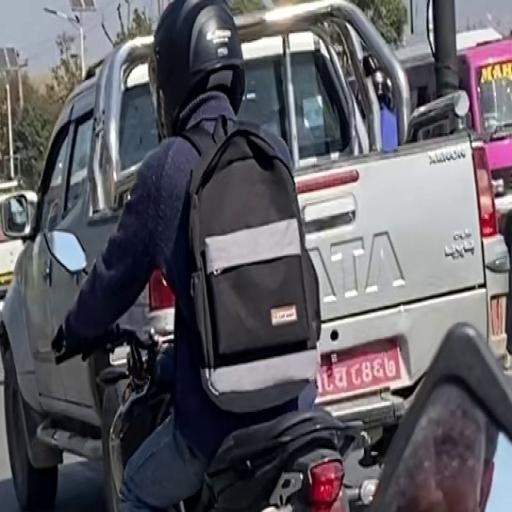license_plate: (314, 335, 404, 404)
